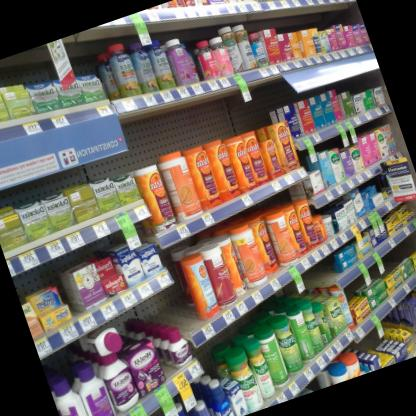empty_space: (151, 286, 211, 336), (54, 269, 89, 321), (307, 267, 350, 282), (407, 326, 416, 346)
